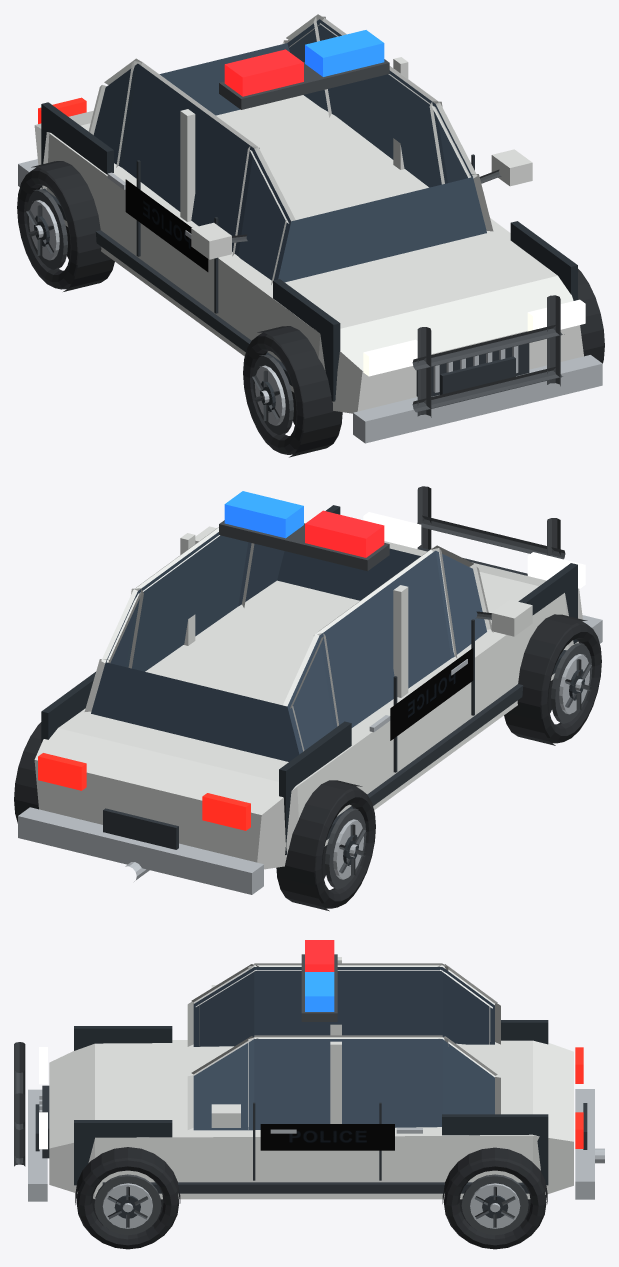
The model's file is car-police.glb.
3 renders of one model, top to bottom at view 1: azimuth 30°, elevation 25°; view 2: azimuth 150°, elevation 25°; view 3: azimuth 270°, elevation 25°, orthographic. The views are drawn at different scales.
Parts seen in each view (by area): view 1: body-detail, wheel-front-left, wheel-back-left, wheel-front-right; view 2: body-detail, wheel-back-left, wheel-front-left, wheel-back-right; view 3: body-detail, wheel-front-right, wheel-back-right.
Boxes of the visible parts, left/top/right/bottom form: body-detail: left=18, top=14, right=602, bottom=443; wheel-front-left: left=243, top=326, right=342, bottom=457; wheel-back-left: left=17, top=161, right=114, bottom=291; wheel-front-right: left=578, top=269, right=604, bottom=363; body-detail: left=18, top=486, right=602, bottom=894; wheel-back-left: left=276, top=780, right=375, bottom=911; wheel-front-left: left=504, top=614, right=601, bottom=745; wheel-back-right: left=14, top=722, right=41, bottom=823; body-detail: left=14, top=940, right=604, bottom=1201; wheel-front-right: left=75, top=1147, right=180, bottom=1249; wheel-back-right: left=442, top=1147, right=547, bottom=1249.
Size of the model in its own units: 1.85 by 1.51 by 3.61.
Materials: 13 (1 with a texture image).
